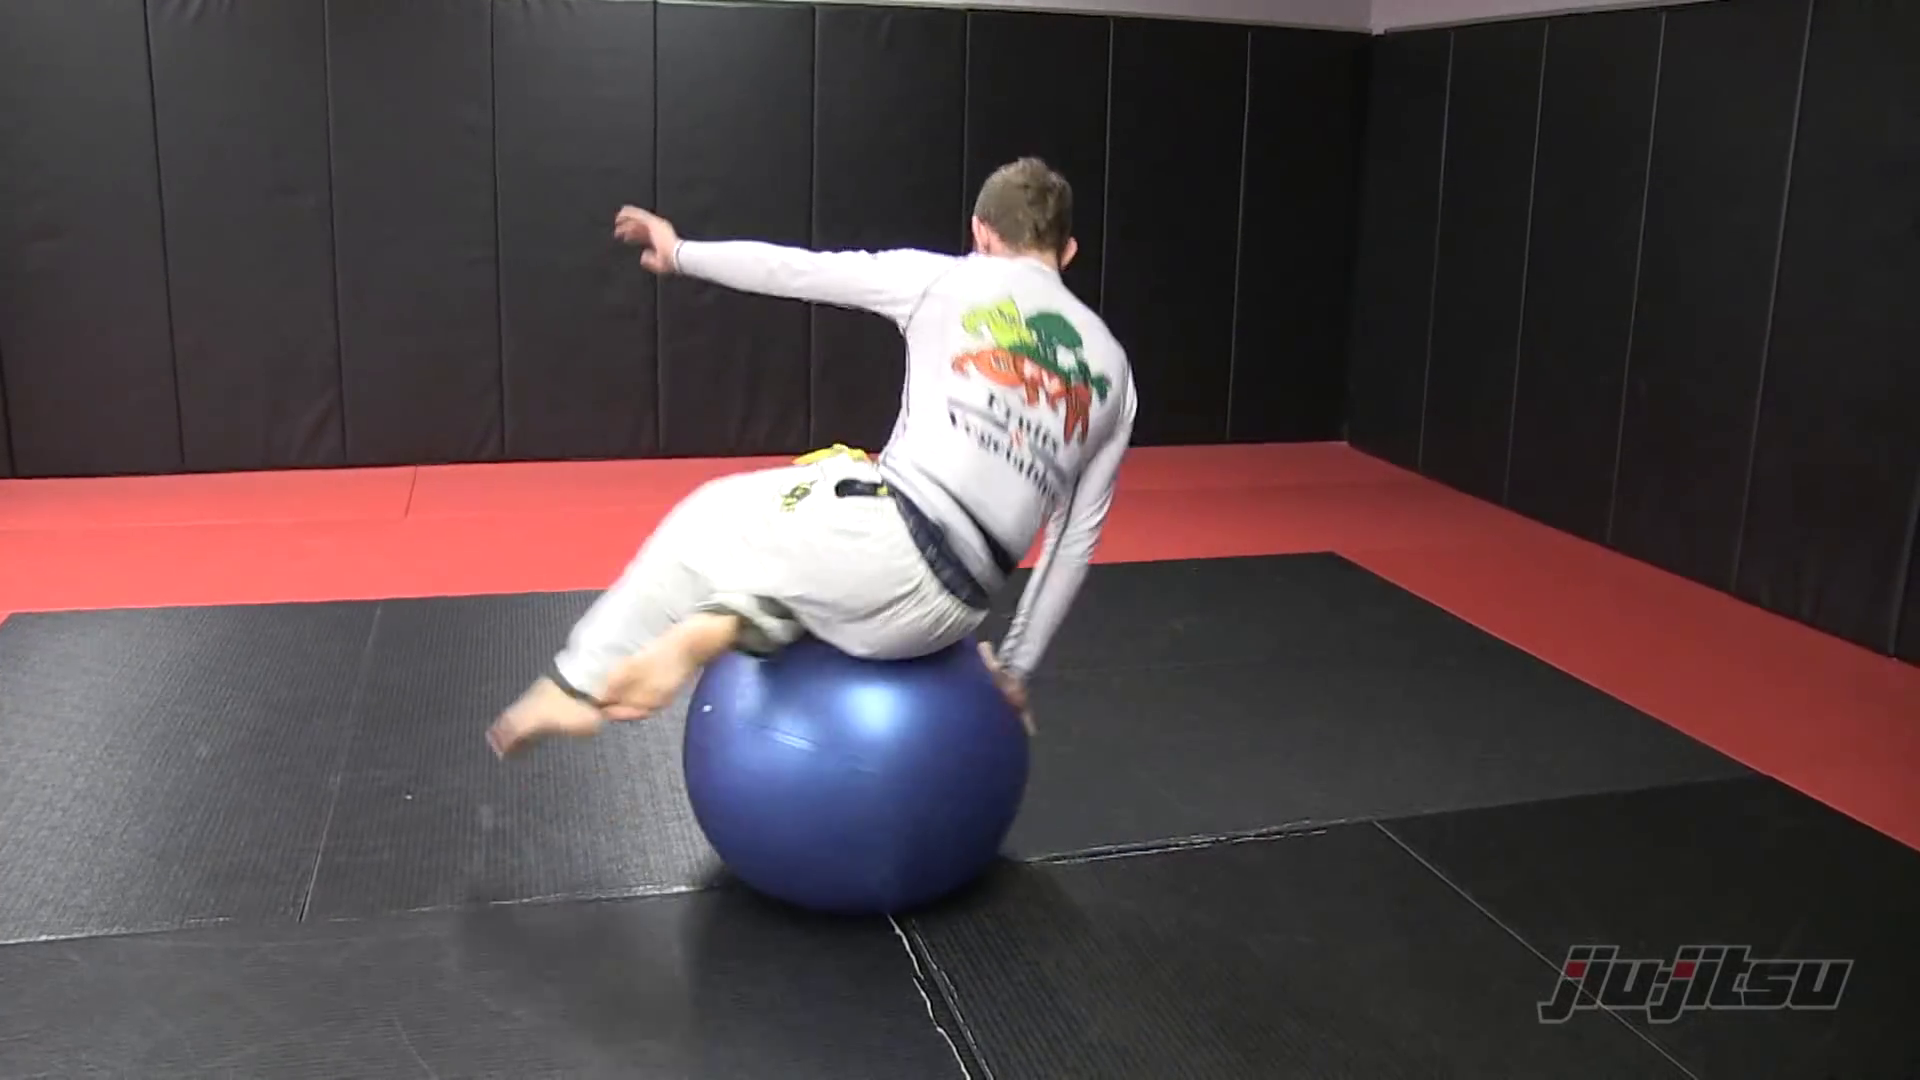yogaball: (662, 605, 1051, 935)
